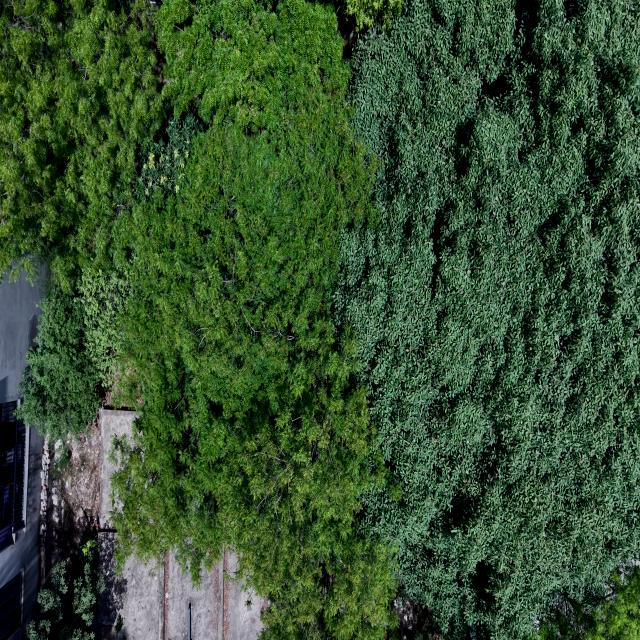VEGETATION_TREE: (0, 0, 639, 639), (86, 2, 395, 638), (336, 0, 639, 638), (113, 2, 395, 638), (112, 90, 395, 638), (0, 0, 341, 289), (0, 0, 162, 290), (155, 0, 350, 132), (154, 0, 350, 131), (18, 270, 128, 442), (19, 288, 100, 442), (26, 538, 105, 639), (539, 567, 639, 639), (78, 267, 129, 393), (137, 112, 199, 200), (344, 0, 402, 31)
